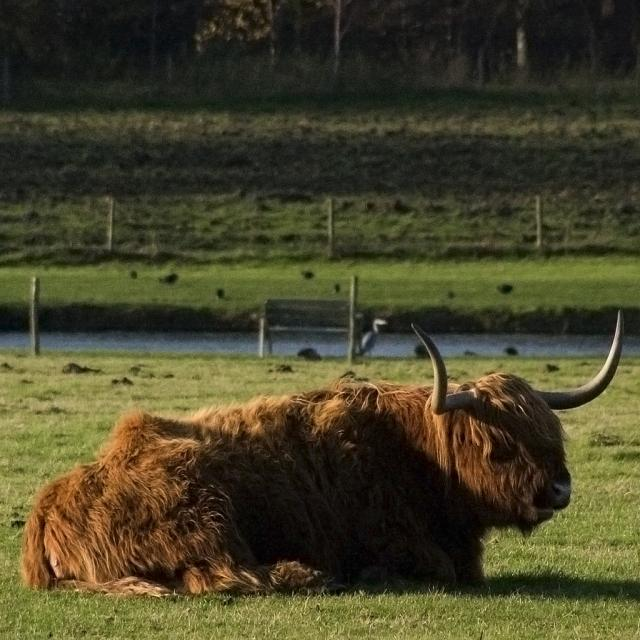Cattle: (21, 308, 624, 598)
